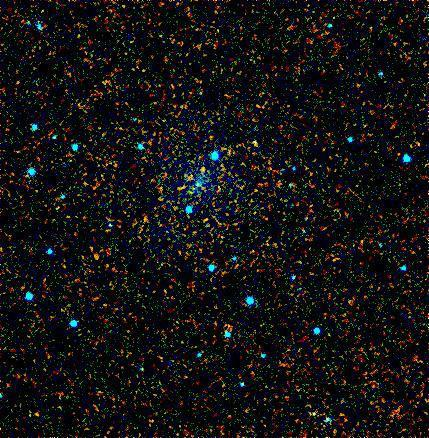star: (200, 154, 230, 184)
